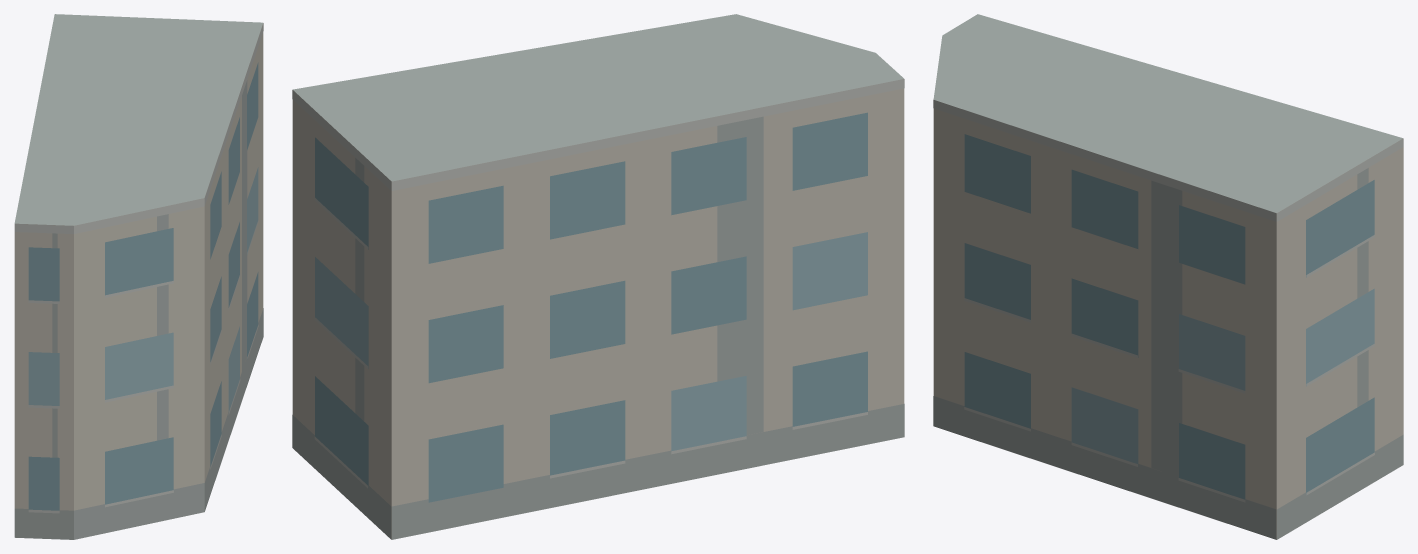
The model's file is residential-f3b18b89-1435-4853-9a07-8851acd89dad.glb.
The picture shows the model from 3 angles, left to right: view 1: azimuth 30°, elevation 25°; view 2: azimuth 150°, elevation 25°; view 3: azimuth 270°, elevation 25°; orthographic projection. The views are drawn at different scales.
Parts seen in each view (by area): view 1: residential-f3b18b89-1435-4853-9a07-8851acd89dad.tmp; view 2: residential-f3b18b89-1435-4853-9a07-8851acd89dad.tmp; view 3: residential-f3b18b89-1435-4853-9a07-8851acd89dad.tmp.
Part boxes in pixels (x1,y1,x2,y2): residential-f3b18b89-1435-4853-9a07-8851acd89dad.tmp: (14,14,263,539); residential-f3b18b89-1435-4853-9a07-8851acd89dad.tmp: (292,14,904,539); residential-f3b18b89-1435-4853-9a07-8851acd89dad.tmp: (933,14,1403,539).
Bounding box in the file's own units: 11.98 × 9.15 × 11.94.
